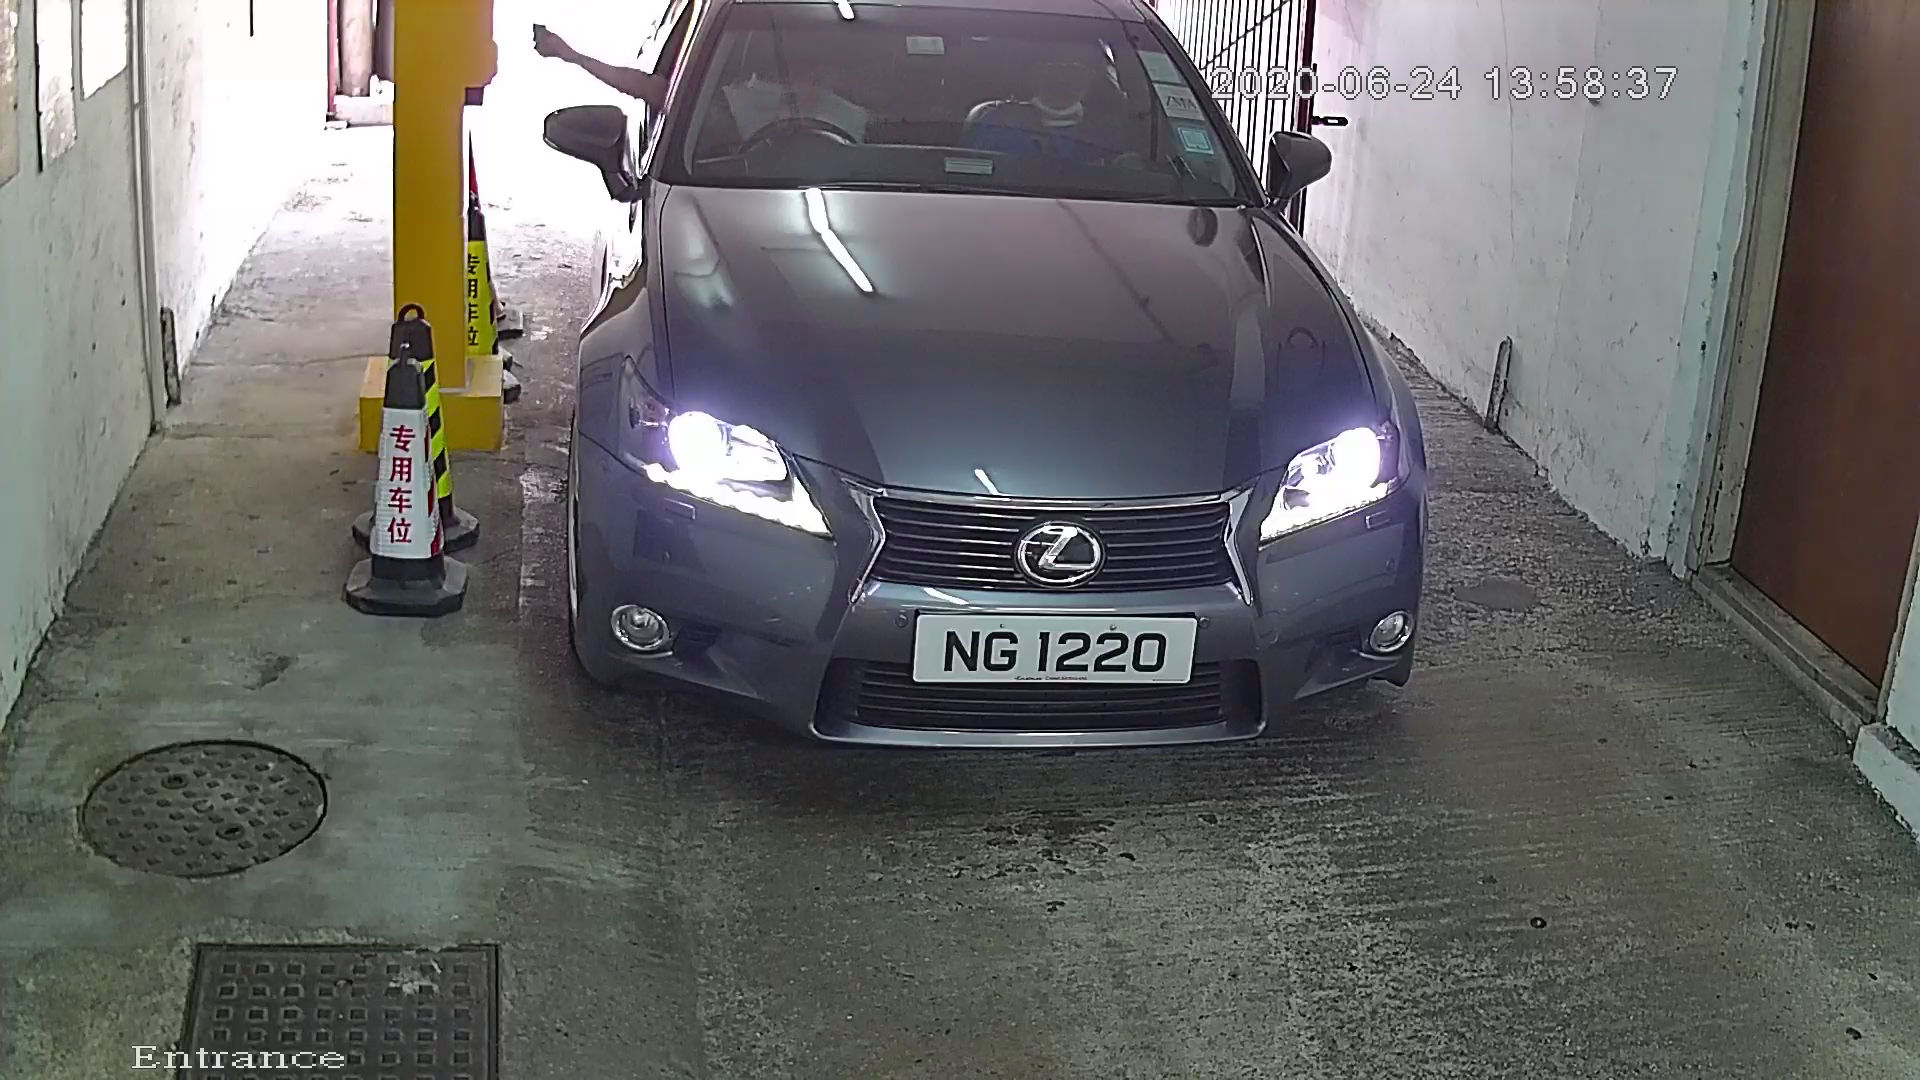Car: (522, 1, 1441, 818)
License Plate: (902, 597, 1215, 702)
